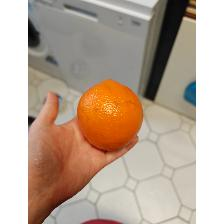Orange: (76, 77, 144, 152)
